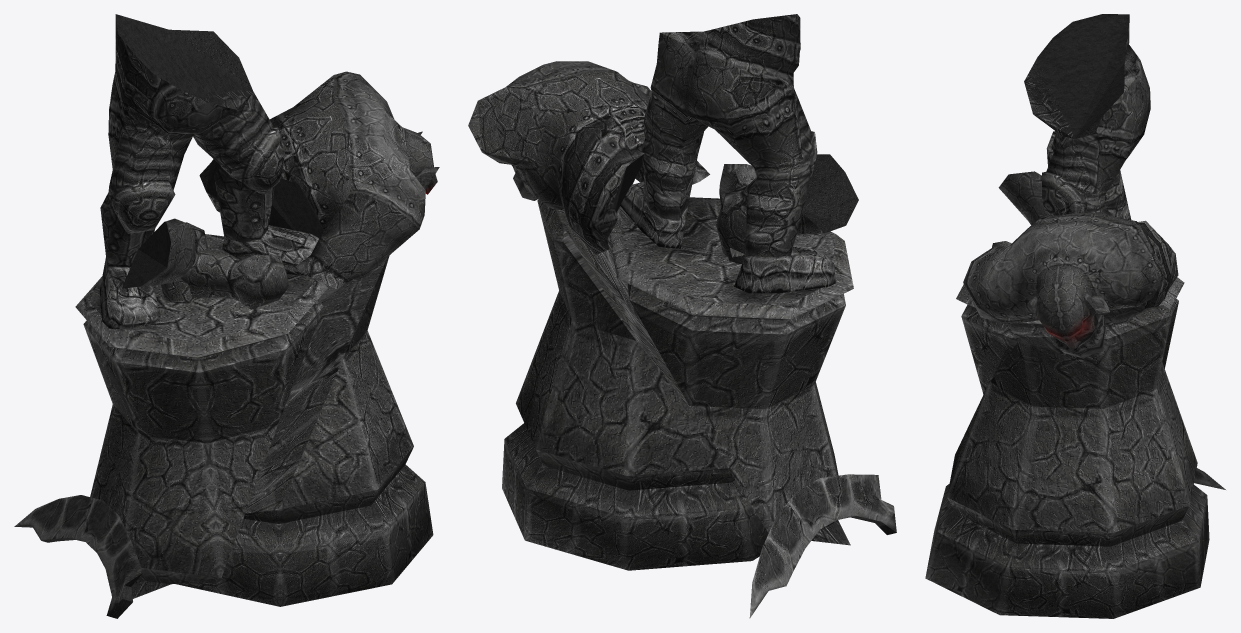
Rendered from statue-Orc-03.fbx.
The picture shows the model from 3 angles, left to right: view 1: azimuth 30°, elevation 25°; view 2: azimuth 150°, elevation 25°; view 3: azimuth 270°, elevation 25°; orthographic projection. The views are drawn at different scales.
Parts seen in each view (by area): view 1: statue-Orc-03; view 2: statue-Orc-03; view 3: statue-Orc-03.
Boxes of the visible parts, <box> form: statue-Orc-03: <box>14,14,439,618</box>; statue-Orc-03: <box>468,14,896,618</box>; statue-Orc-03: <box>925,14,1225,618</box>.
Size of the model in its own units: 3.37 by 4.87 by 2.65.
